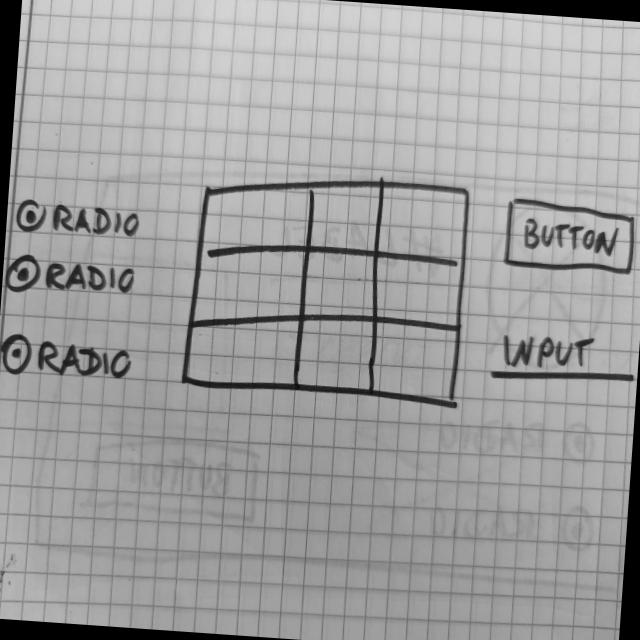button: (501, 194, 640, 280)
input: (489, 322, 640, 395)
radio: (2, 249, 141, 305), (1, 330, 138, 385), (13, 196, 144, 245)
table: (179, 165, 476, 410)
